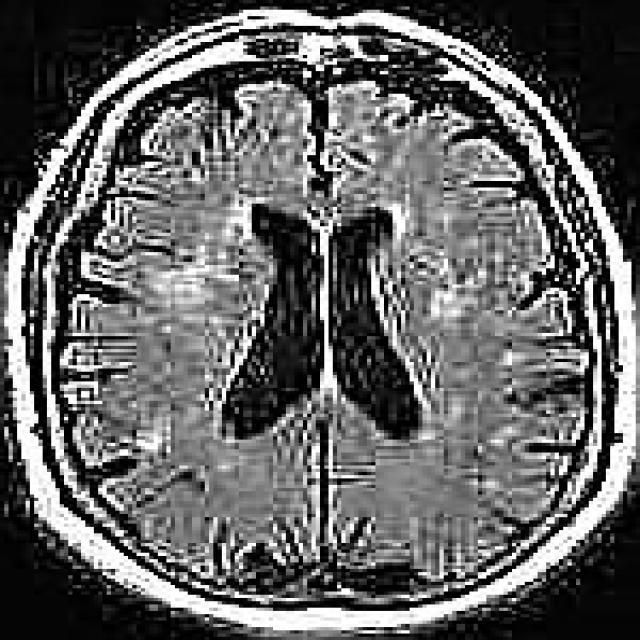notumor: (9, 10, 636, 630)
